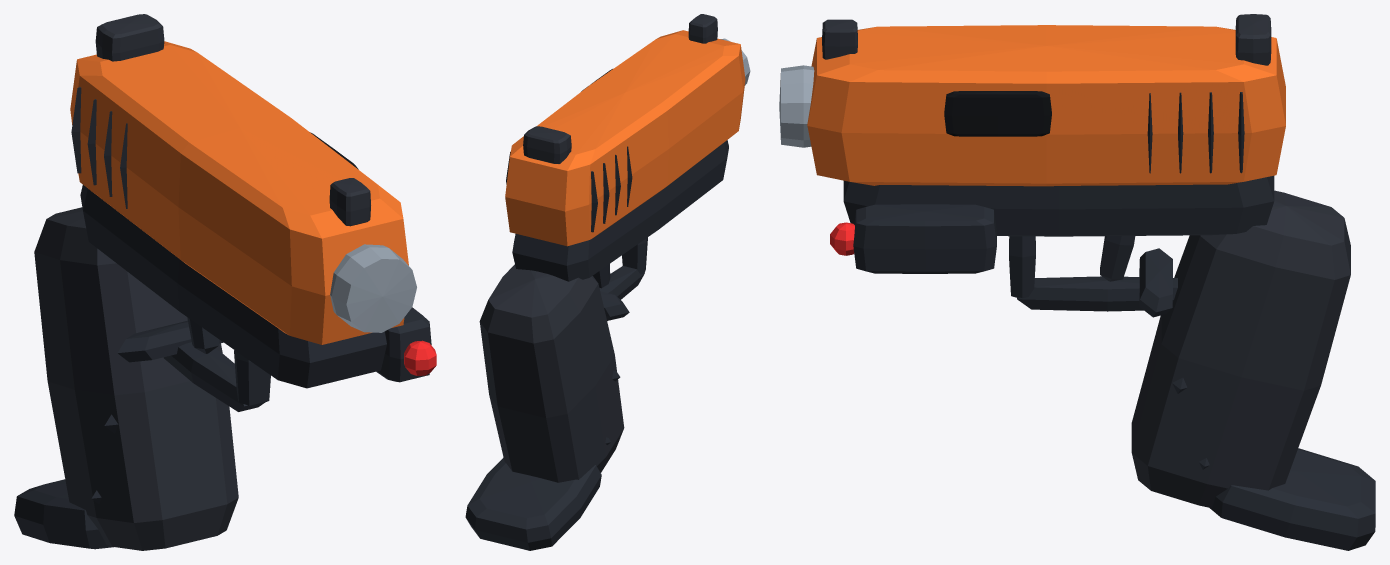
File: g-pistol-3.glb
The picture shows the model from 3 angles, left to right: view 1: azimuth 30°, elevation 25°; view 2: azimuth 150°, elevation 25°; view 3: azimuth 270°, elevation 25°; orthographic projection. The views are drawn at different scales.
Parts seen in each view (by area): view 1: gun; view 2: gun; view 3: gun.
Boxes of the visible parts, x1,y1,x2,y2 form: gun: (14,14,436,550); gun: (465,14,750,550); gun: (779,14,1375,550).
Size of the model in its own units: 0.145 by 0.4586 by 0.4906.
